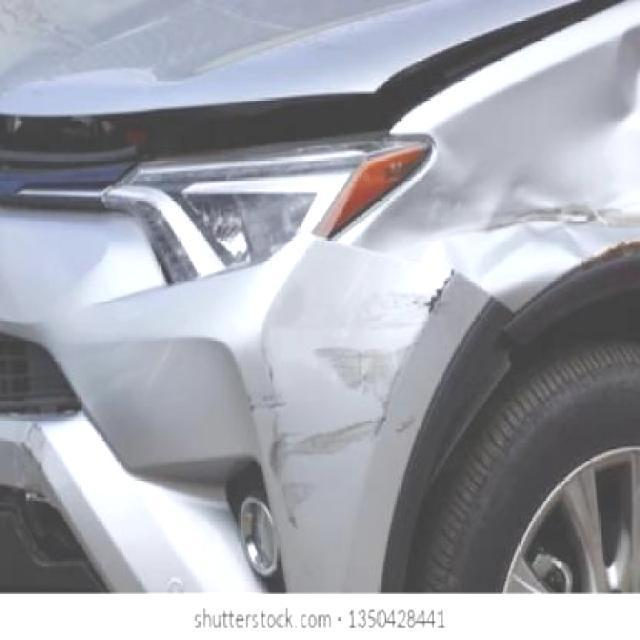minor: (260, 94, 640, 546), (395, 402, 423, 437), (286, 483, 314, 509)
moderate: (312, 343, 414, 405), (280, 420, 380, 457)
